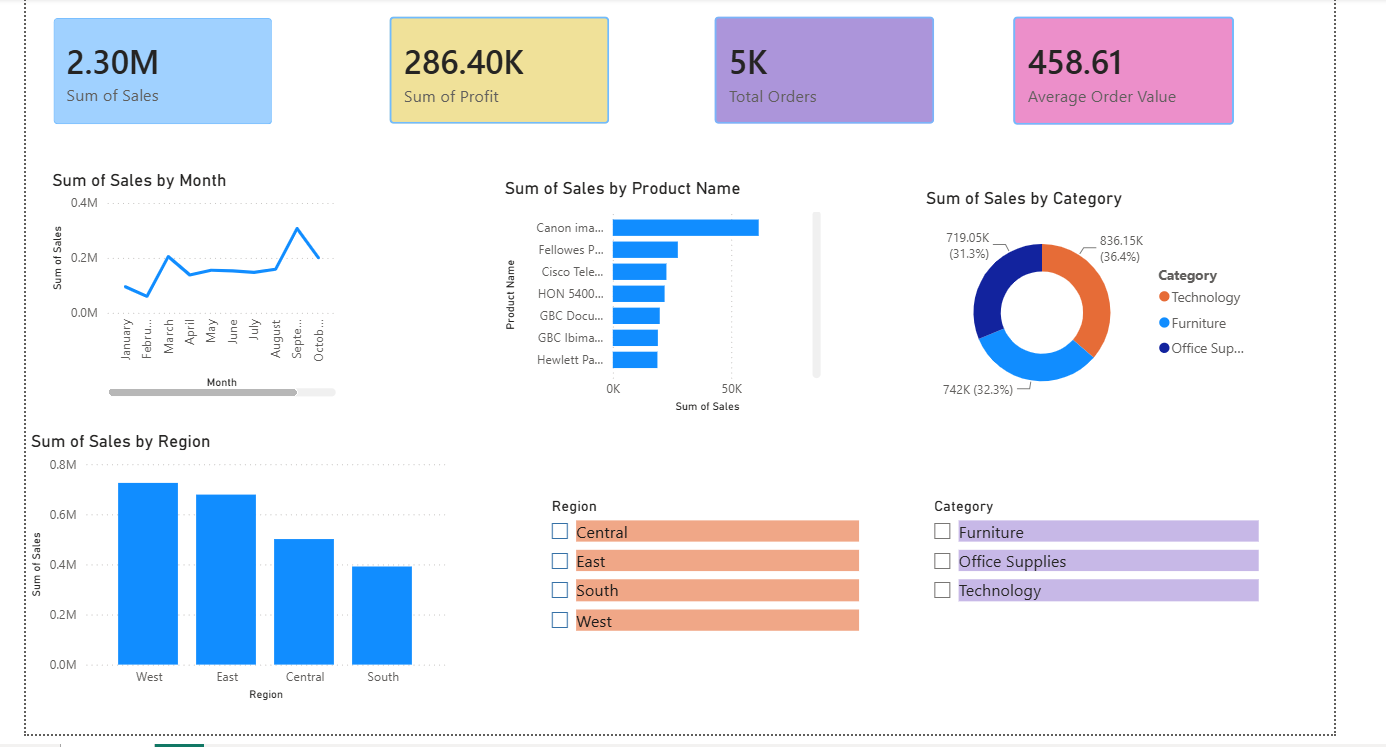

The dashboard page shown, as its layout file describes it:
{"tool":"powerbi","page":{"name":"Page 1","canvas":[1280,720],"ordinal":0},"visuals":[{"type":"cardVisual","fields":{"Data":["Sum(Superstore sales dataset.Sales)"]},"box":[8.9,1,250,140],"z":0},{"type":"cardVisual","fields":{"Data":["Sum(Superstore sales dataset.Profit)"]},"box":[338.7,1.2,249.5,139.4],"z":1000},{"type":"lineChart","fields":{"Category":["Superstore sales dataset.Order Date.Variation.Date Hierarchy.Month"],"Y":["Sum(Superstore sales dataset.Sales)"]},"box":[20.8,167.5,287.4,227.4],"z":2000},{"type":"cardVisual","fields":{"Data":["Superstore sales dataset.Total Orders"]},"box":[656.7,1.2,249.5,139.4],"z":3000},{"type":"cardVisual","fields":{"Data":["Superstore sales dataset.Average Order Value"]},"box":[948.9,1,250,140],"z":4000},{"type":"clusteredBarChart","fields":{"Y":["Sum(Superstore sales dataset.Sales)"],"Category":["Superstore sales dataset.Product Name"]},"box":[463.5,176.1,319.2,234.8],"z":5000},{"type":"donutChart","fields":{"Category":["Superstore sales dataset.Category"],"Y":["Sum(Superstore sales dataset.Sales)"]},"box":[875.5,185.9,335.1,225],"z":6000},{"type":"clusteredColumnChart","fields":{"Y":["Sum(Superstore sales dataset.Sales)"],"Category":["Superstore sales dataset.Region"]},"box":[0,423.1,415.8,269],"z":7000},{"type":"slicer","fields":{"Values":["Superstore sales dataset.Region"]},"box":[501.1,483.3,318.2,196.3],"z":8000},{"type":"slicer","fields":{"Values":["Superstore sales dataset.Category"]},"box":[875.5,483,335.1,165.1],"z":9000}]}

Visuals, with their boxes on the page's 1280x720 design canvas (x1, y1, x2, y2). These are canvas units, not pixel positions in the 1386x747 screenshot, which may show the page scaled, cropped or inside an application window:
cardVisual - Sum(Superstore sales dataset.Sales): box(9, 1, 259, 141)
cardVisual - Sum(Superstore sales dataset.Profit): box(339, 1, 588, 141)
lineChart - Superstore sales dataset.Order Date.Variation.Date Hierarchy.Month x Sum(Superstore sales dataset.Sales): box(21, 168, 308, 395)
cardVisual - Superstore sales dataset.Total Orders: box(657, 1, 906, 141)
cardVisual - Superstore sales dataset.Average Order Value: box(949, 1, 1199, 141)
clusteredBarChart - Sum(Superstore sales dataset.Sales) x Superstore sales dataset.Product Name: box(464, 176, 783, 411)
donutChart - Superstore sales dataset.Category x Sum(Superstore sales dataset.Sales): box(876, 186, 1211, 411)
clusteredColumnChart - Sum(Superstore sales dataset.Sales) x Superstore sales dataset.Region: box(0, 423, 416, 692)
slicer - Superstore sales dataset.Region: box(501, 483, 819, 680)
slicer - Superstore sales dataset.Category: box(876, 483, 1211, 648)
